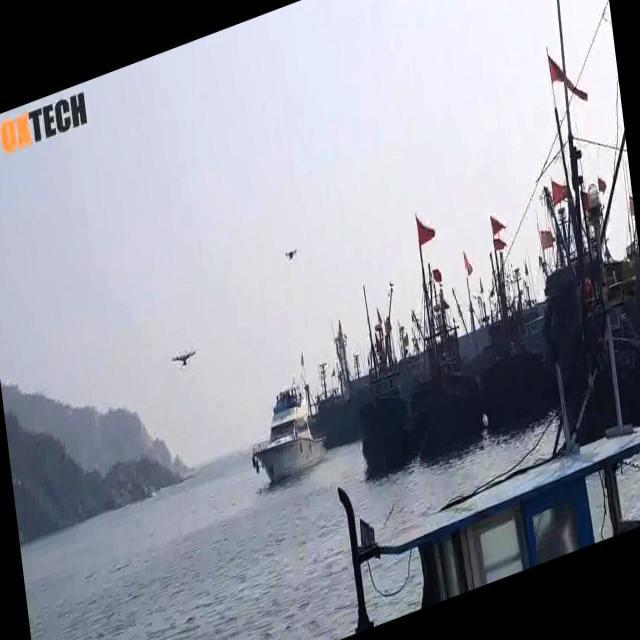drone: (168, 334, 202, 380), (280, 235, 300, 268)
